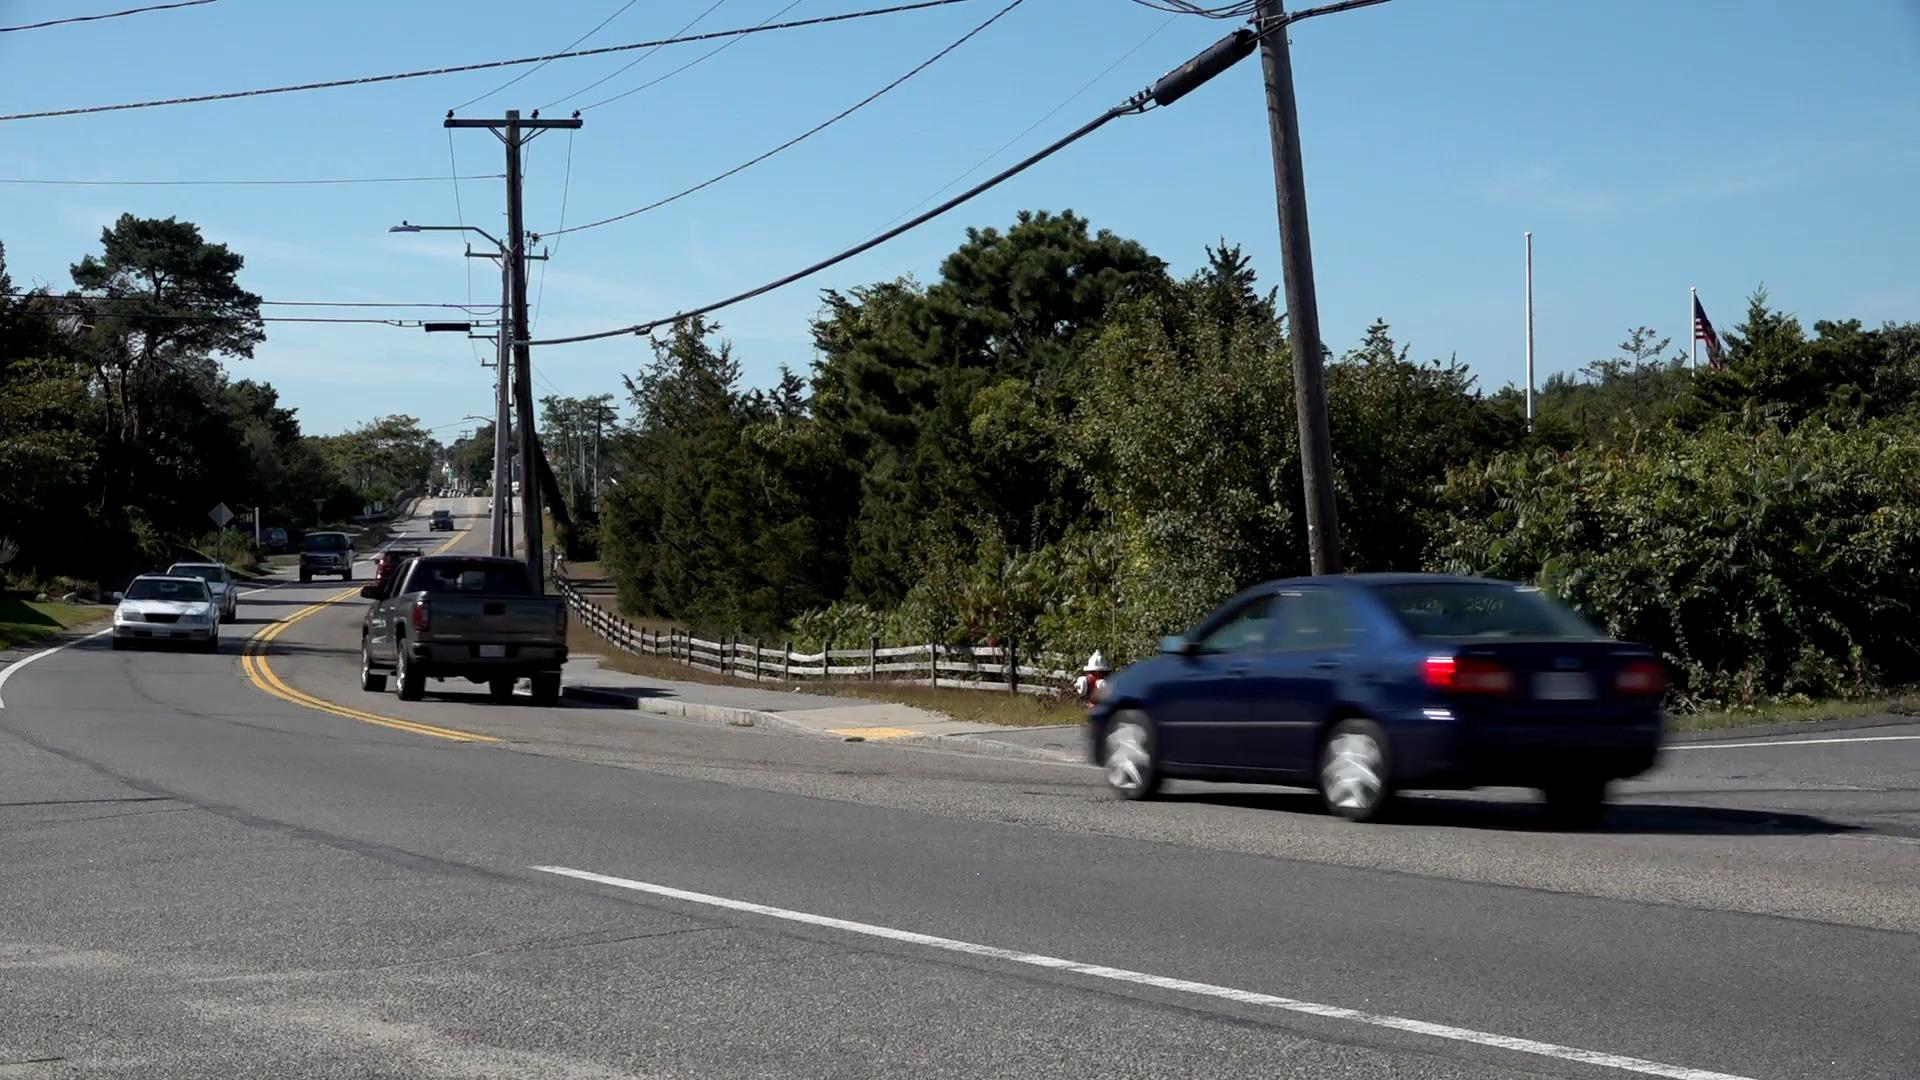pickup: (357, 554, 568, 707)
sedans: (1081, 564, 1671, 828), (117, 570, 225, 657)
